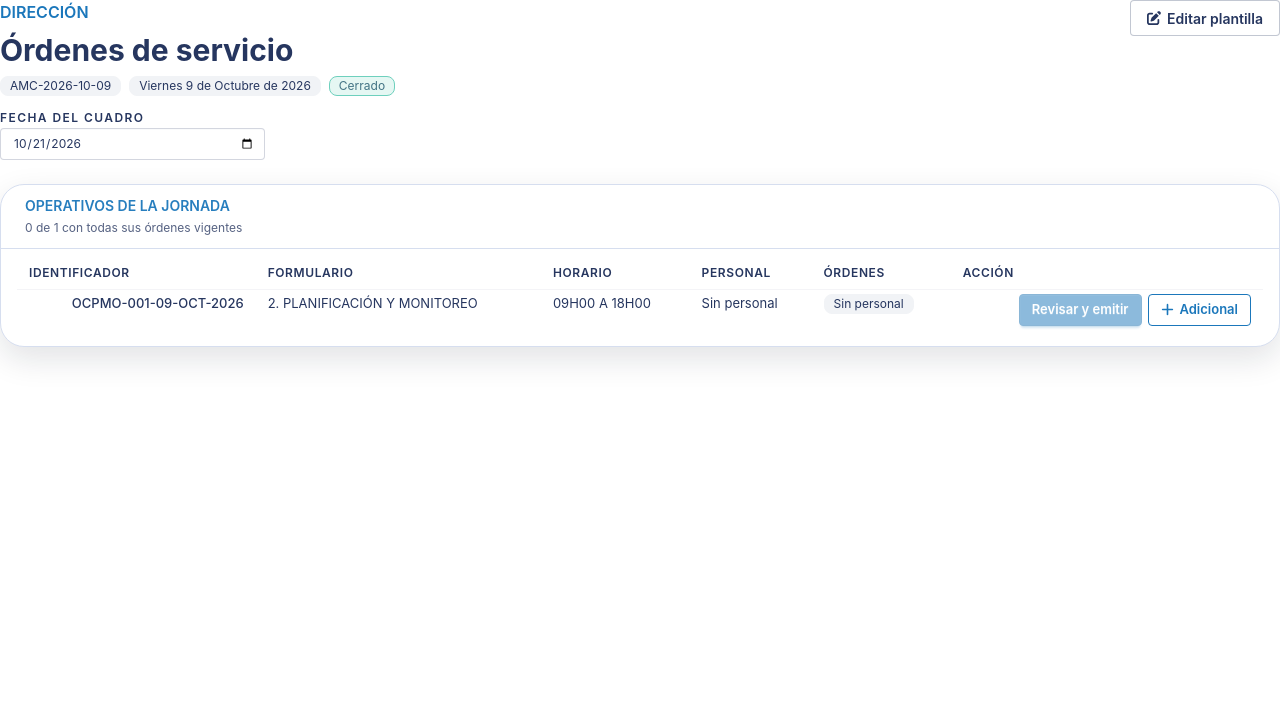
en Órdenes de servicio el adicional abre el cajón › «+ Adicional» abre el cajón sin mover la tabla, y al cerrar el foco vuelve al botón
Click the button "Adicional". click: (1199, 310)
box: [1148,294,1251,326]
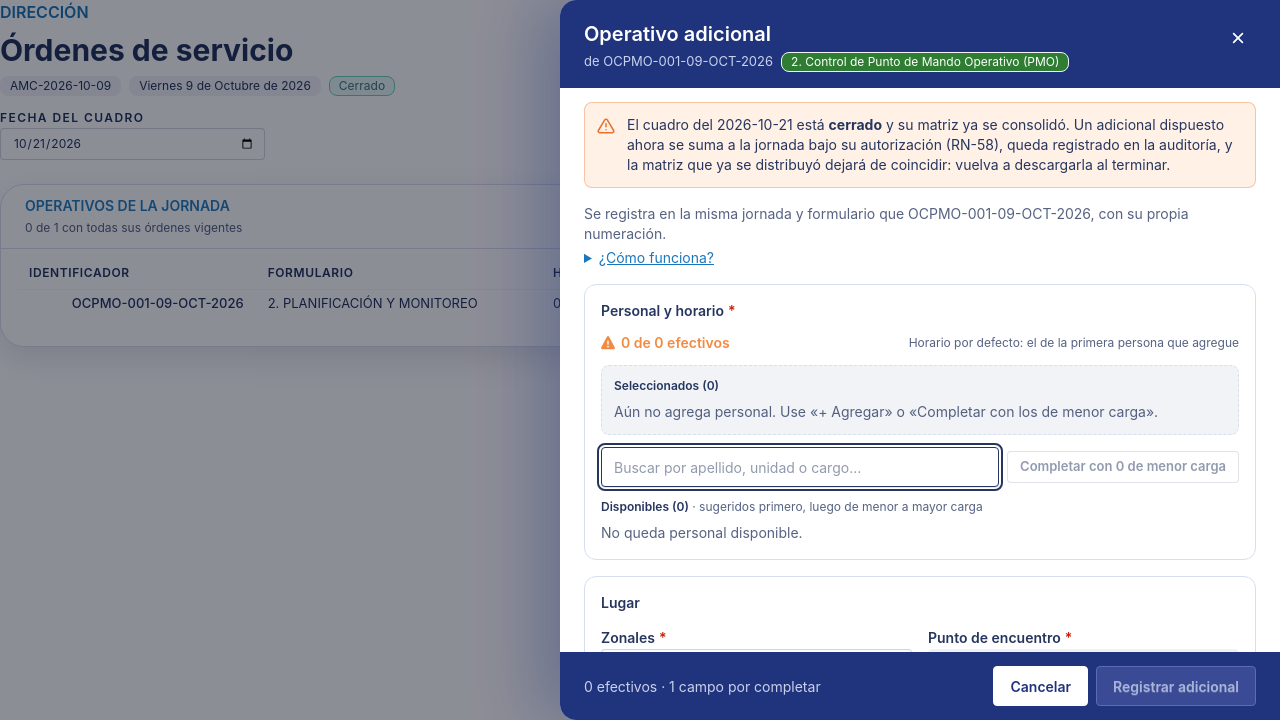
Click the button named "Cerrar" in the row of "de OCPMO-001-09-OCT-2026". click: (1238, 38)
box: [1220,20,1256,56]
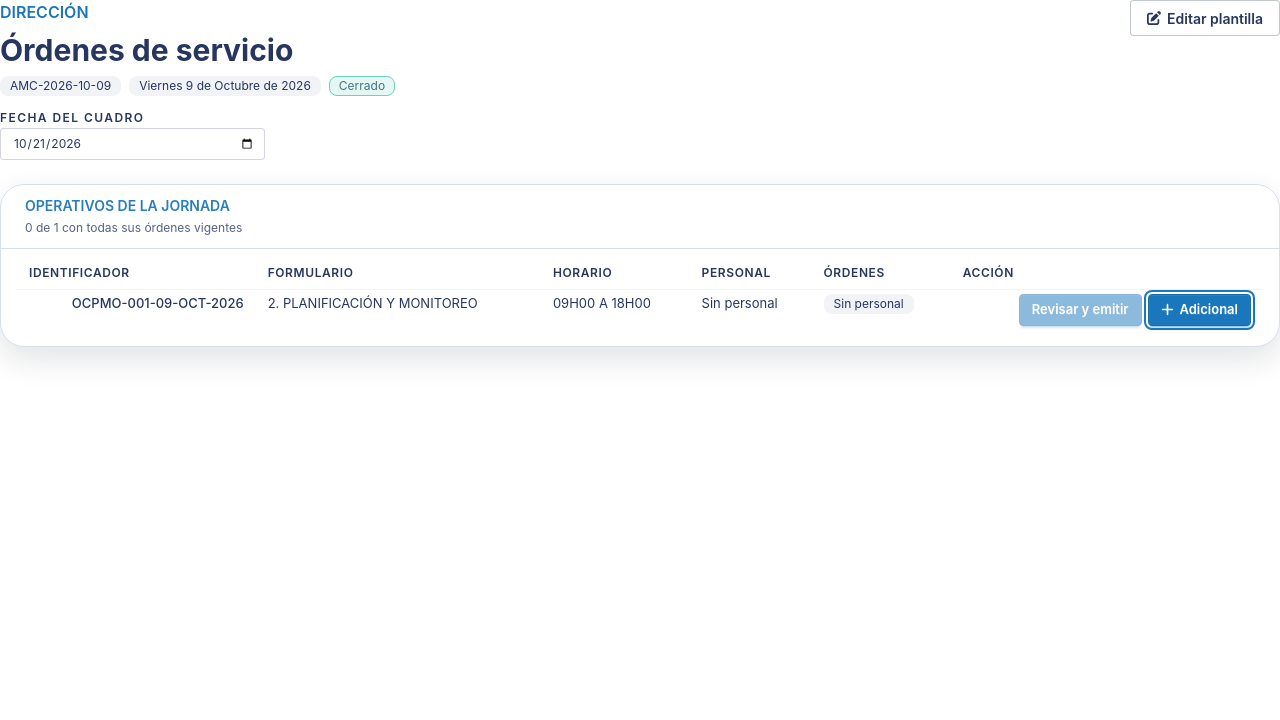
Result: the dialog is gone
